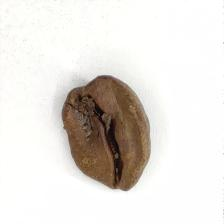NG: (63, 93, 133, 191)
